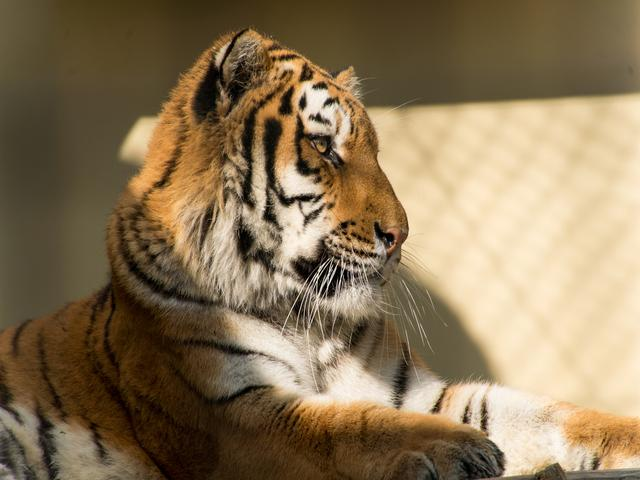tiger: (48, 18, 507, 480)
